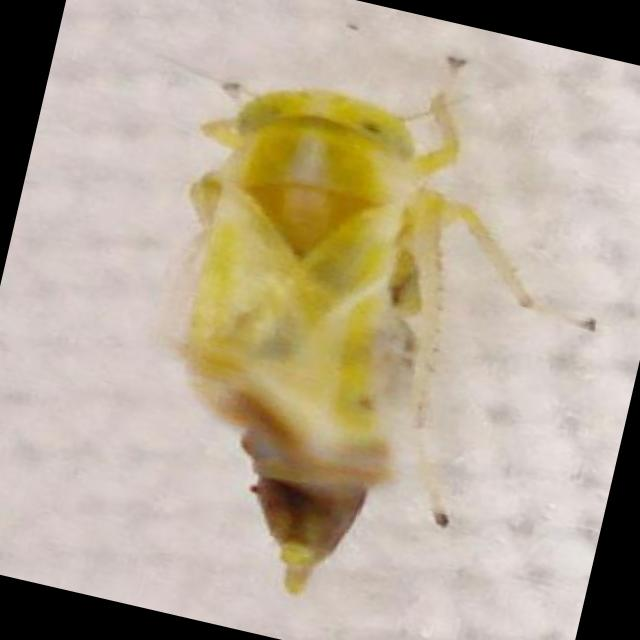green-leafhopper: (106, 47, 539, 621)
